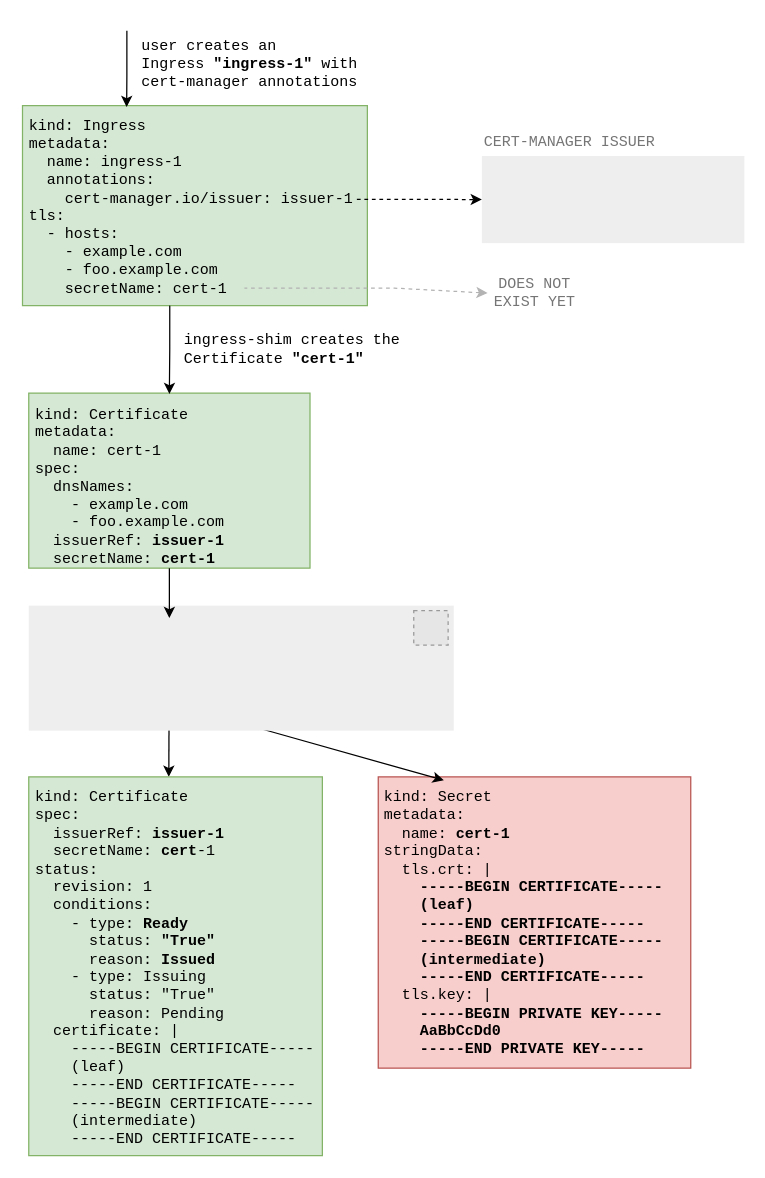
Image size: 765x1178. Some labels were removed from this diagram. Grey dashed boxes stand in for pictures. Each missing label, with the box of its shape:
Certificate Flow [1]: (28, 605, 453, 730)
kind: Issuer metadata: name: issuer-1 spec: ...: (481, 155, 744, 242)
